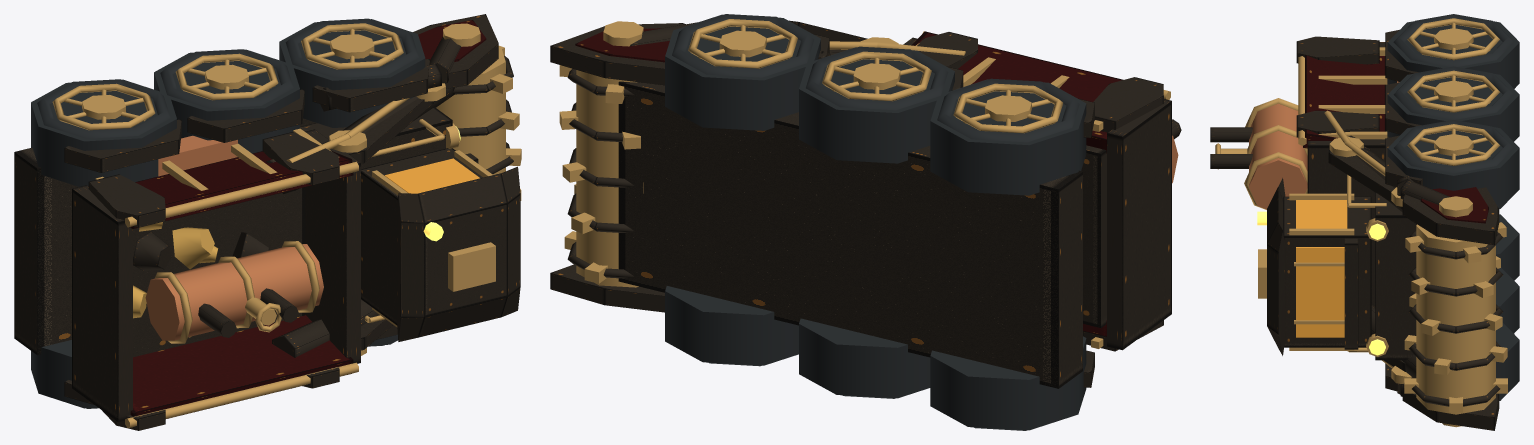
Rendered from harvester-low.glb.
3 views of the same model, side by side, from view 1: azimuth 30°, elevation 25°; view 2: azimuth 150°, elevation 25°; view 3: azimuth 270°, elevation 25° (orthographic). The views are drawn at different scales.
Visible parts, largest first — view 1: harvester-root.001 / Riveted iron.001, harvester-root.001 / Burgundy enamel.001, harvester-root.001 / Machined brass.001, harvester-root.001 / Copper feed lines.001, Wheel 2 1.001 / Tire rubber.001, Wheel 0 1.001 / Tire rubber.001, Wheel 1 1.001 / Tire rubber.001, Mineral intake roller.001 / Machined brass.001, Wheel 2 1.001 / Machined brass.001, Wheel 0 1.001 / Machined brass.001, Wheel 1 1.001 / Machined brass.001, Wheel 2 -1.001 / Tire rubber.001 (+3 smaller); view 2: harvester-root.001 / Riveted iron.001, Wheel 2 1.001 / Tire rubber.001, Wheel 0 1.001 / Tire rubber.001, Wheel 1 1.001 / Tire rubber.001, Mineral intake roller.001 / Machined brass.001, Wheel 2 -1.001 / Tire rubber.001, Wheel 0 -1.001 / Tire rubber.001, Wheel 1 -1.001 / Tire rubber.001, harvester-root.001 / Burgundy enamel.001, Wheel 0 1.001 / Machined brass.001, Wheel 1 1.001 / Machined brass.001, Wheel 2 1.001 / Machined brass.001 (+2 smaller); view 3: harvester-root.001 / Riveted iron.001, Mineral intake roller.001 / Machined brass.001, harvester-root.001 / Machined brass.001, Wheel 0 1.001 / Tire rubber.001, harvester-root.001 / Amber glazing.001, Wheel 1 1.001 / Tire rubber.001, harvester-root.001 / Burgundy enamel.001, Wheel 2 1.001 / Tire rubber.001, harvester-root.001 / Copper feed lines.001, Mineral intake roller.001 / Riveted iron.001, Wheel 1 1.001 / Machined brass.001, Wheel 0 1.001 / Machined brass.001 (+5 smaller).
Boxes of the visible parts, x1=… form: harvester-root.001 / Riveted iron.001: x1=14, y1=14, x2=520, y2=430; harvester-root.001 / Burgundy enamel.001: x1=130, y1=20, x2=486, y2=418; harvester-root.001 / Machined brass.001: x1=95, y1=23, x2=495, y2=428; harvester-root.001 / Copper feed lines.001: x1=145, y1=135, x2=323, y2=340; Wheel 2 1.001 / Tire rubber.001: x1=31, y1=79, x2=176, y2=186; Wheel 0 1.001 / Tire rubber.001: x1=279, y1=18, x2=425, y2=127; Wheel 1 1.001 / Tire rubber.001: x1=154, y1=49, x2=299, y2=153; Mineral intake roller.001 / Machined brass.001: x1=436, y1=45, x2=521, y2=200; Wheel 2 1.001 / Machined brass.001: x1=52, y1=83, x2=155, y2=130; Wheel 0 1.001 / Machined brass.001: x1=301, y1=23, x2=403, y2=69; Wheel 1 1.001 / Machined brass.001: x1=175, y1=53, x2=278, y2=100; Wheel 2 -1.001 / Tire rubber.001: x1=31, y1=340, x2=98, y2=408; harvester-root.001 / Riveted iron.001: x1=550, y1=20, x2=1181, y2=388; Wheel 2 1.001 / Tire rubber.001: x1=930, y1=78, x2=1086, y2=195; Wheel 0 1.001 / Tire rubber.001: x1=665, y1=14, x2=820, y2=130; Wheel 1 1.001 / Tire rubber.001: x1=799, y1=46, x2=954, y2=163; Mineral intake roller.001 / Machined brass.001: x1=559, y1=65, x2=643, y2=287; Wheel 2 -1.001 / Tire rubber.001: x1=930, y1=336, x2=1086, y2=430; Wheel 0 -1.001 / Tire rubber.001: x1=665, y1=286, x2=798, y2=366; Wheel 1 -1.001 / Tire rubber.001: x1=799, y1=318, x2=930, y2=398; harvester-root.001 / Burgundy enamel.001: x1=575, y1=28, x2=1123, y2=336; Wheel 0 1.001 / Machined brass.001: x1=688, y1=19, x2=797, y2=68; Wheel 1 1.001 / Machined brass.001: x1=822, y1=51, x2=931, y2=101; Wheel 2 1.001 / Machined brass.001: x1=953, y1=83, x2=1063, y2=133; harvester-root.001 / Riveted iron.001: x1=1210, y1=29, x2=1499, y2=430; Mineral intake roller.001 / Machined brass.001: x1=1404, y1=222, x2=1507, y2=414; harvester-root.001 / Machined brass.001: x1=1215, y1=47, x2=1472, y2=427; Wheel 0 1.001 / Tire rubber.001: x1=1387, y1=120, x2=1519, y2=208; harvester-root.001 / Amber glazing.001: x1=1296, y1=200, x2=1347, y2=337; Wheel 1 1.001 / Tire rubber.001: x1=1387, y1=66, x2=1519, y2=141; harvester-root.001 / Burgundy enamel.001: x1=1303, y1=55, x2=1488, y2=223; Wheel 2 1.001 / Tire rubber.001: x1=1387, y1=14, x2=1519, y2=88; harvester-root.001 / Copper feed lines.001: x1=1249, y1=81, x2=1399, y2=209; Mineral intake roller.001 / Riveted iron.001: x1=1409, y1=230, x2=1503, y2=406; Wheel 1 1.001 / Machined brass.001: x1=1407, y1=70, x2=1499, y2=112; Wheel 0 1.001 / Machined brass.001: x1=1407, y1=124, x2=1499, y2=165.
Bounding box in the file's own units: 1.52 × 0.849 × 0.9728.
Materials: 8 (2 with a texture image).
